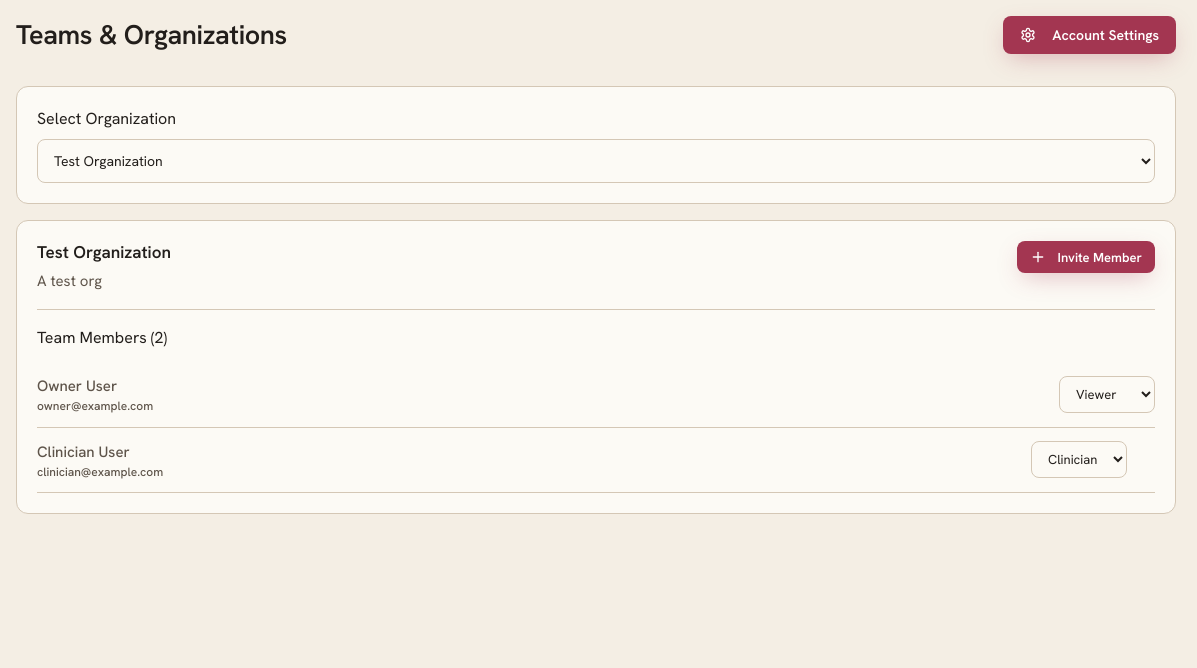
Test: Teams Page › should allow toggling invite form
The image size is (1197, 668).
Step 1. Click the button "Invite Member" → click(1086, 257), box [1017,241,1155,273]
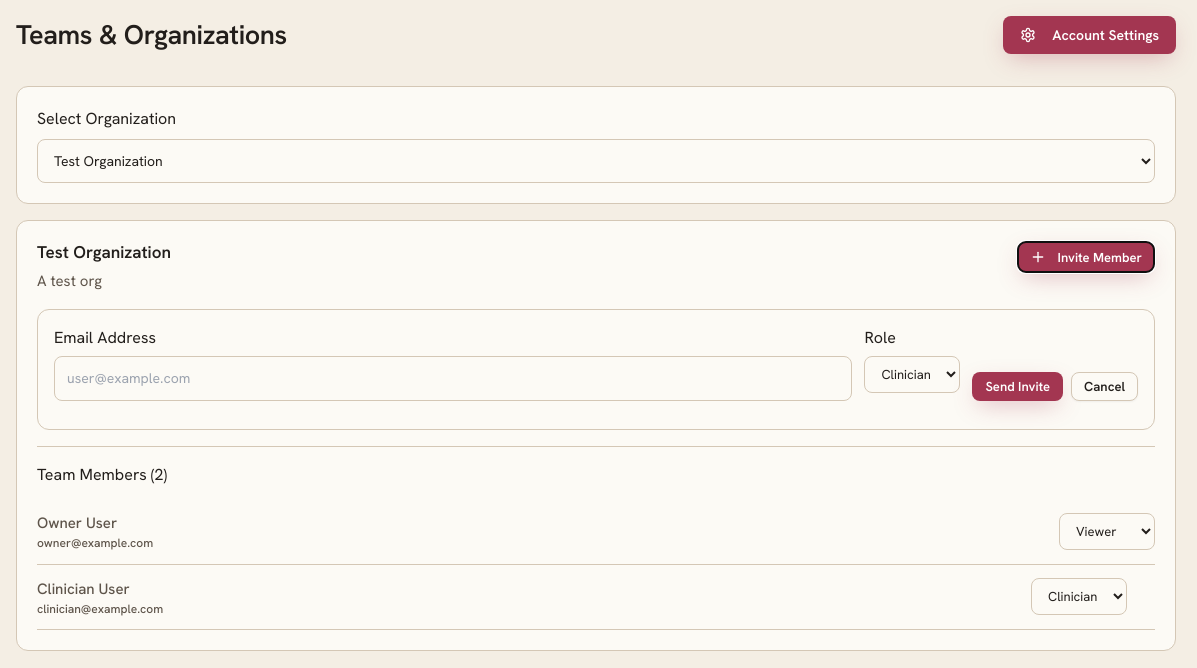
Check: the field labelled "Email Address" is shown, box [54,356,852,401]
Check: the dropdown labelled "Role" is shown, box [864,356,960,393]
